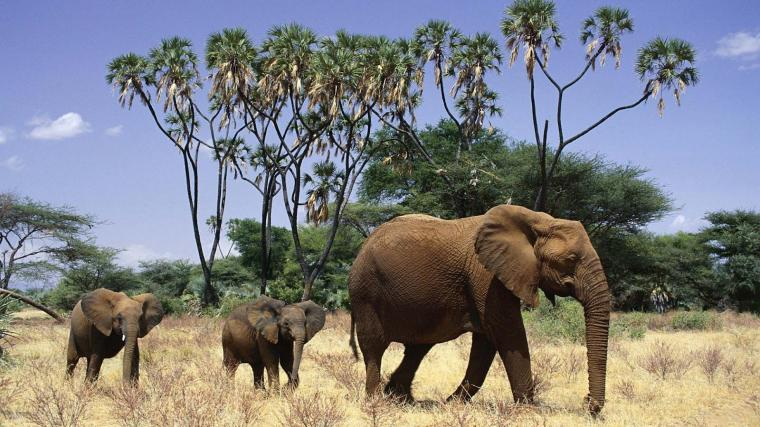africanelephant: (488, 199, 601, 333)
